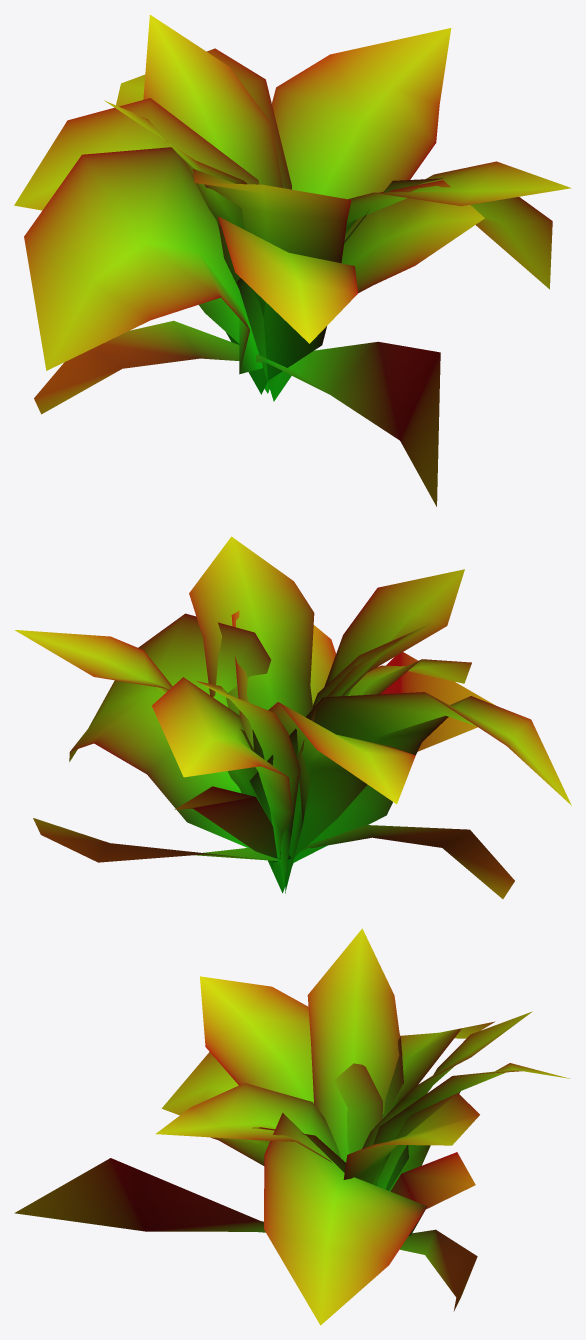
The model's file is Silver Lady Fern_LOD4_Var1_ubolejkia.fbx.
The picture shows the model from 3 angles, top to bottom: view 1: azimuth 30°, elevation 25°; view 2: azimuth 150°, elevation 25°; view 3: azimuth 270°, elevation 25°; orthographic projection. The views are drawn at different scales.
Visible parts, largest first — view 1: _fc2b_Var1_LOD4; view 2: _fc2b_Var1_LOD4; view 3: _fc2b_Var1_LOD4.
Boxes of the visible parts, x1,y1,x2,y2 form: _fc2b_Var1_LOD4: [14, 15, 571, 506]; _fc2b_Var1_LOD4: [15, 536, 571, 898]; _fc2b_Var1_LOD4: [14, 928, 570, 1325].
Size of the model in its own units: 166 by 103 by 184.
